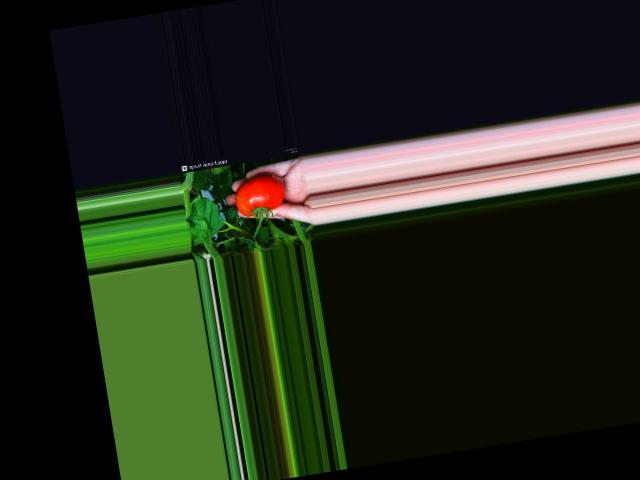tomato: (232, 171, 288, 217)
